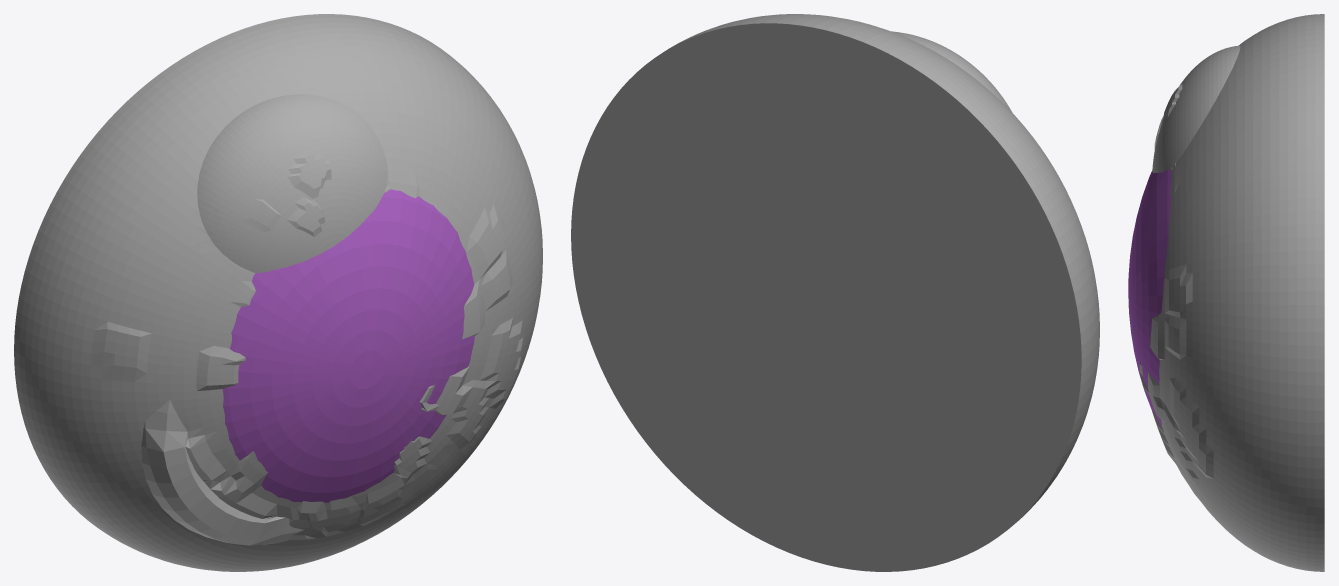
Rendered from G07_A3_ALIGNED_GT.glb.
The picture shows the model from 3 angles, left to right: view 1: azimuth 30°, elevation 25°; view 2: azimuth 150°, elevation 25°; view 3: azimuth 270°, elevation 25°; orthographic projection. The views are drawn at different scales.
Parts seen in each view (by area): view 1: Independent_GT, A3; view 2: Independent_GT; view 3: Independent_GT, A3.
Boxes of the visible parts, x1=… form: Independent_GT: x1=14, y1=14, x2=542, y2=571; A3: x1=222, y1=189, x2=474, y2=502; Independent_GT: x1=571, y1=14, x2=1099, y2=571; Independent_GT: x1=1139, y1=14, x2=1324, y2=571; A3: x1=1128, y1=169, x2=1171, y2=426.
Size of the model in its own units: 0.014 by 0.014 by 0.00492.
